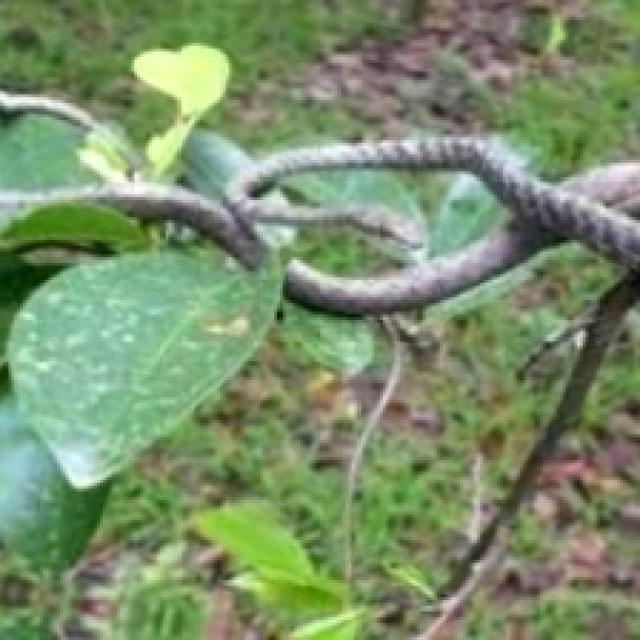philippine whip snake: (54, 137, 637, 311), (229, 137, 637, 311), (241, 199, 426, 248)
